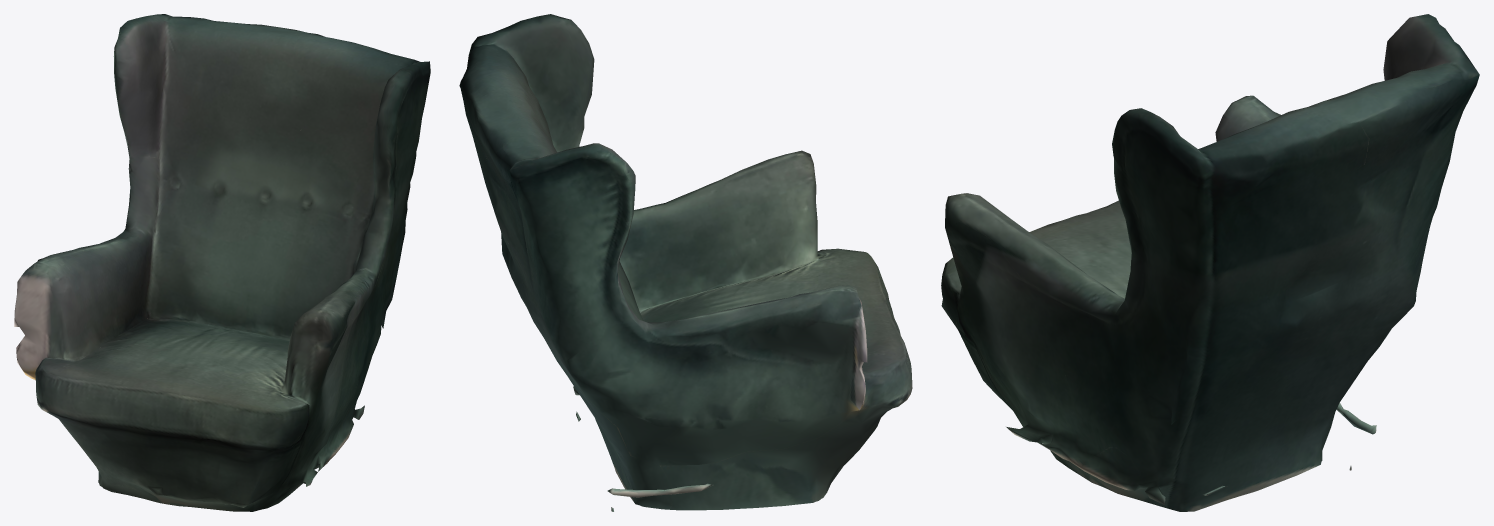
File: 3DModel_LowPoly.obj
3 views of the same model, side by side, from view 1: azimuth 30°, elevation 25°; view 2: azimuth 150°, elevation 25°; view 3: azimuth 270°, elevation 25° (orthographic). The views are drawn at different scales.
Parts seen in each view (by area): view 1: grp1; view 2: grp1; view 3: grp1.
Boxes of the visible parts, x1,y1,x2,y2 form: grp1: (14, 14, 430, 511); grp1: (459, 14, 912, 511); grp1: (941, 14, 1479, 511).
Bounding box in the file's own units: 3.32 × 2.92 × 3.21.
Materials: 1 (1 with a texture image).
